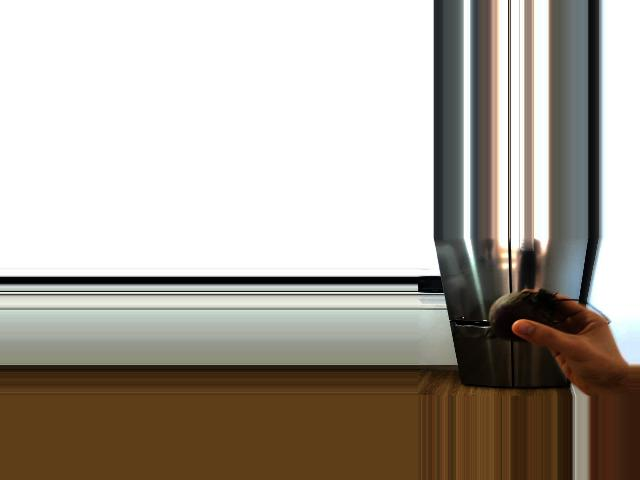beet: (476, 289, 609, 341)
